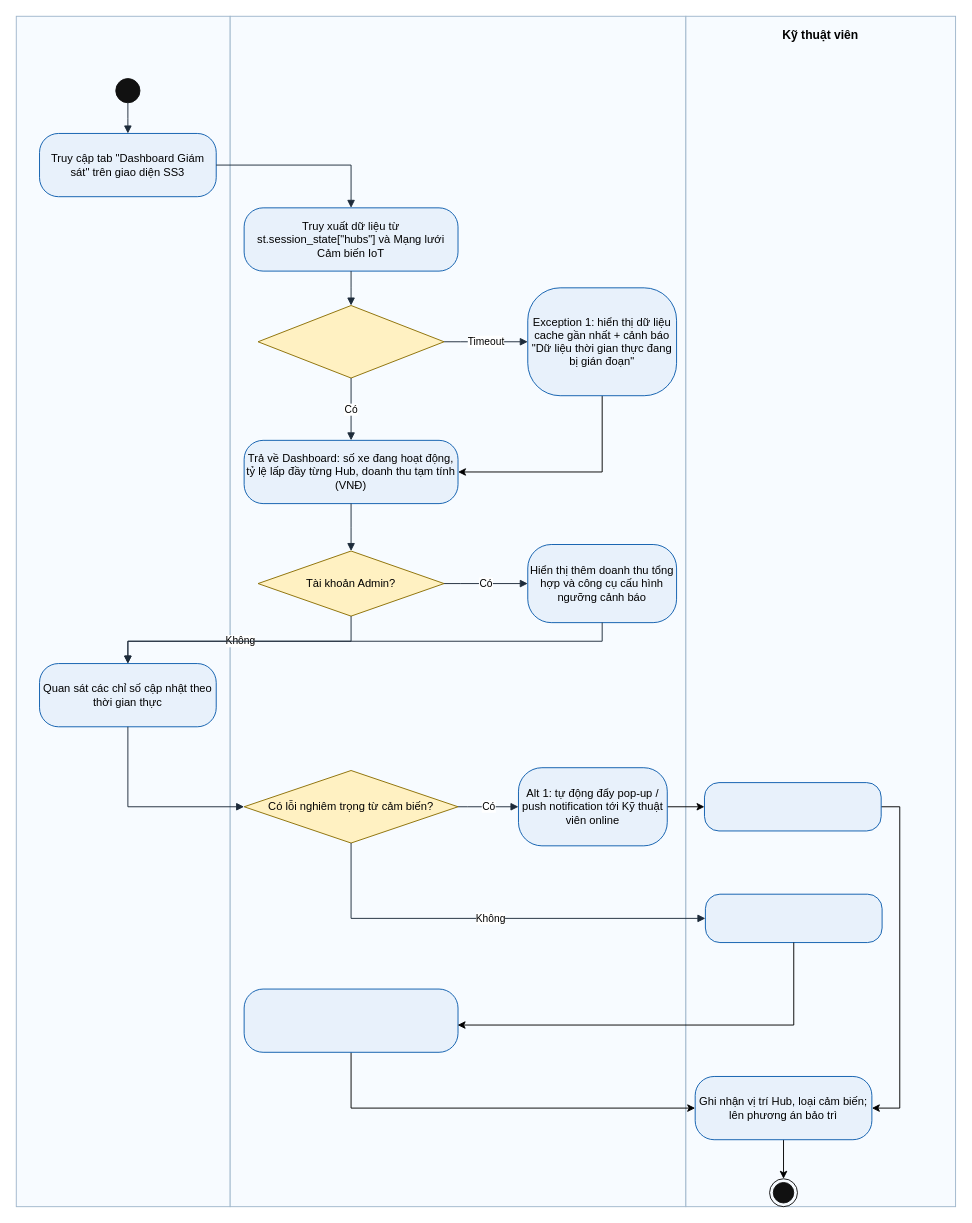
The diagram is 972 pixels wide and 1223 high, and some of its shapes have lost their labels. The shapes that lost their labels are listed below. From the top down, each one's box as (x1, y1, x2, y2) in pixels, then its label:
(257, 305, 444, 378): IoT phản hồi đúng hạn?
(15, 15, 230, 1207): Operator / Admin
(229, 15, 686, 1207): Hệ thống SS3 (Dashboard · st.session_state · IoT)
(704, 782, 881, 831): Nhấp vào thông báo để xem chi tiết
(704, 893, 882, 943): Nhấp chọn mục "Log/Lỗi IoT" trên Dashboard
(243, 988, 458, 1052): Hiển thị danh sách cảm biến lỗi kết nối hoặc dữ liệu bất thường
